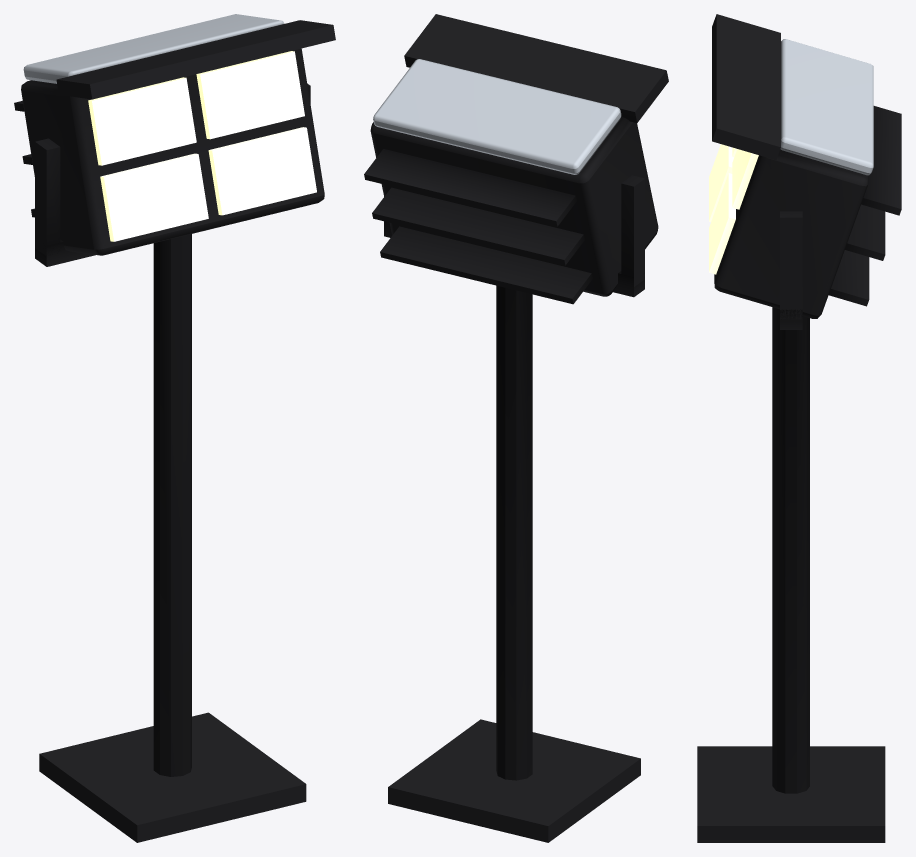
The model's file is floodlight.glb.
3 renders of one model, left to right at view 1: azimuth 30°, elevation 25°; view 2: azimuth 150°, elevation 25°; view 3: azimuth 270°, elevation 25°, orthographic. The views are drawn at different scales.
Parts seen in each view (by area): view 1: Floodlight; view 2: Floodlight; view 3: Floodlight.
Boxes of the visible parts, x1=… form: Floodlight: x1=14, y1=14, x2=335, y2=842; Floodlight: x1=364, y1=14, x2=668, y2=842; Floodlight: x1=697, y1=14, x2=901, y2=842.
Size of the model in its own units: 0.78 by 2.15 by 0.5436.
